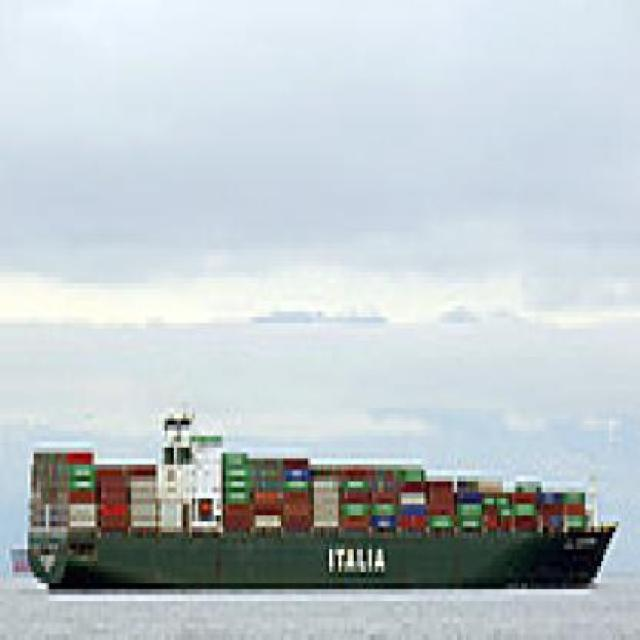container: (13, 386, 626, 613)
